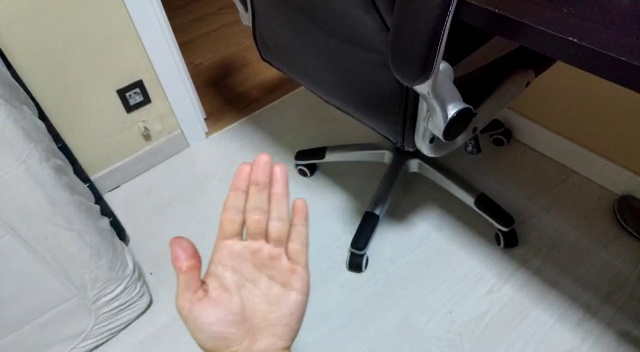Palm: (164, 150, 318, 351)
